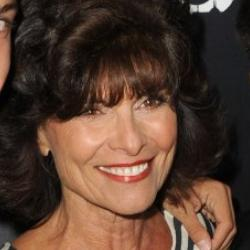face: (10, 5, 194, 226)
